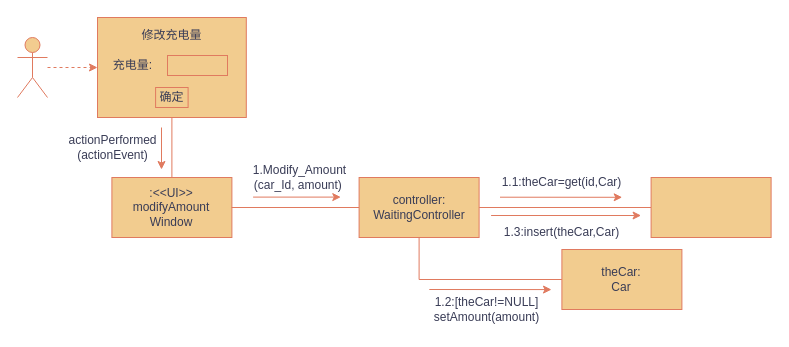
The diagram is 789 pixels wide and 347 high, and some of its shapes have lost their labels. Each missing label, with the centre of its shape:
:DBFacade: the point at 710,207
User: the point at 32,67
